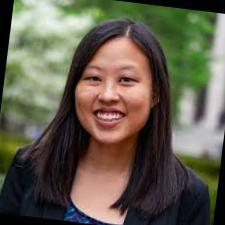Sober: (81, 46, 148, 132)
